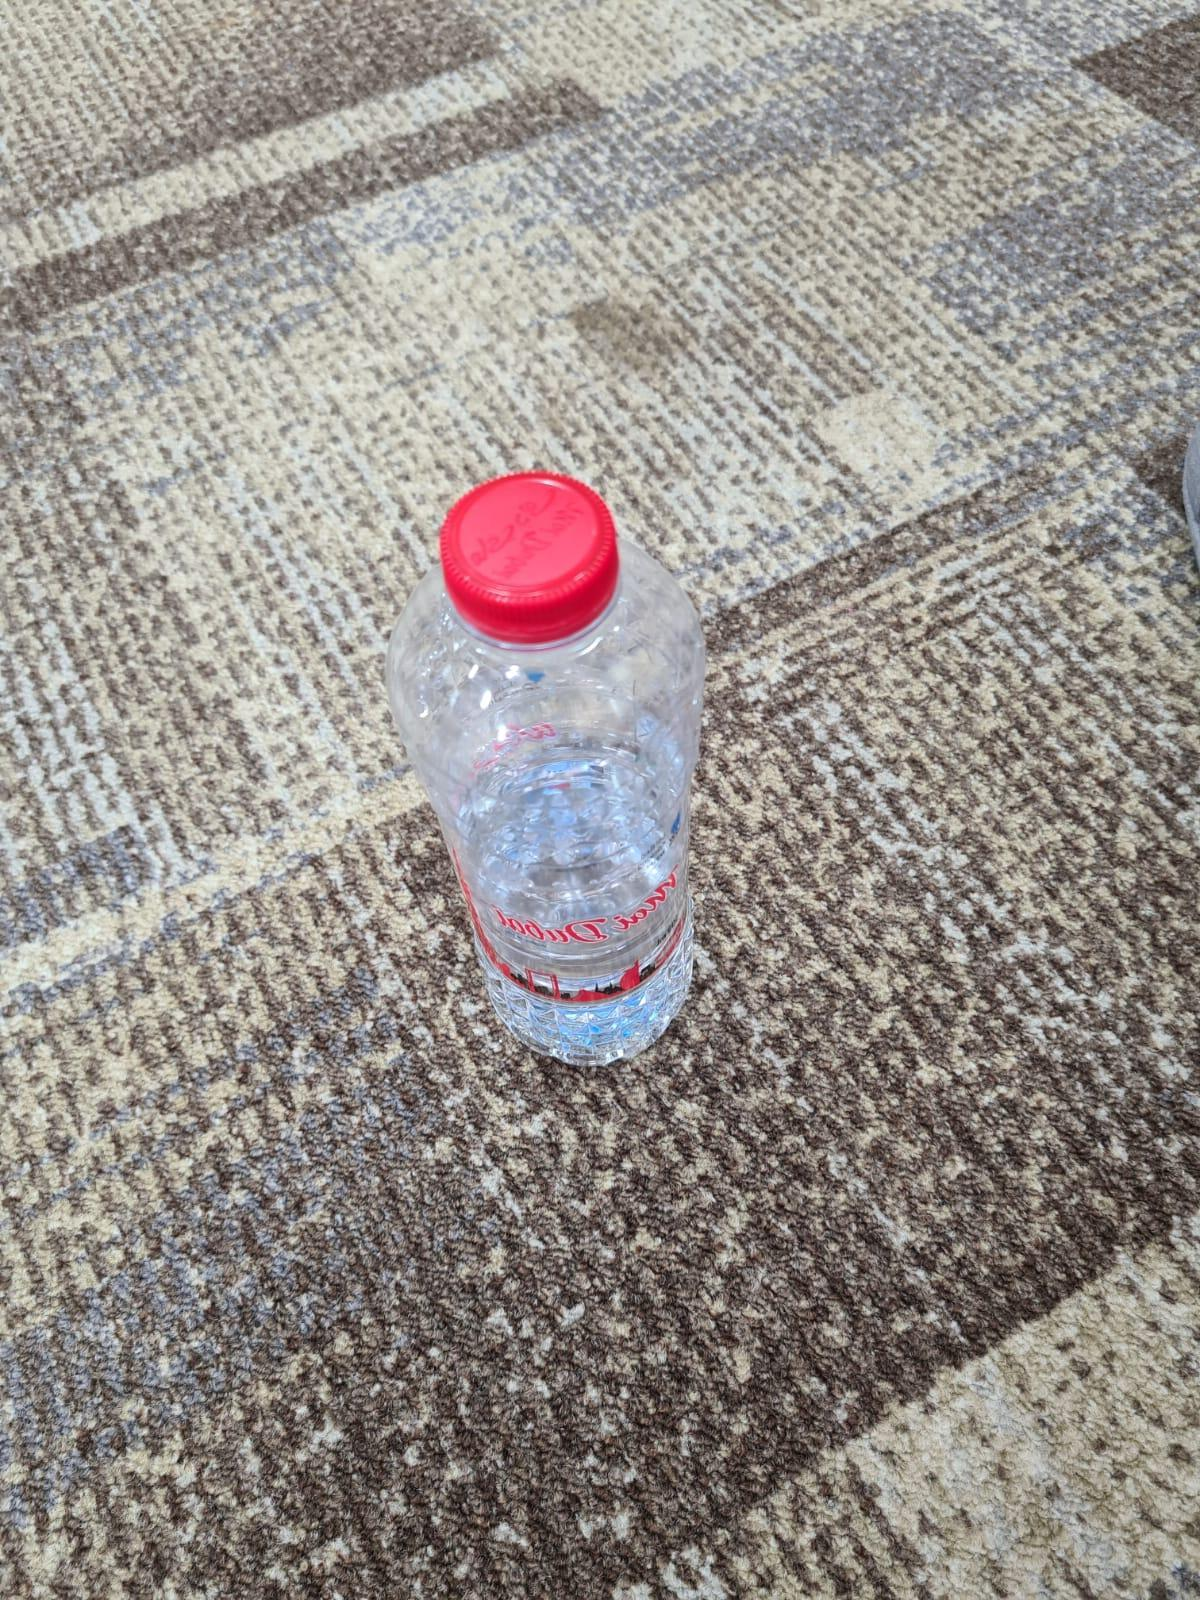bottle: (410, 451, 715, 1091)
